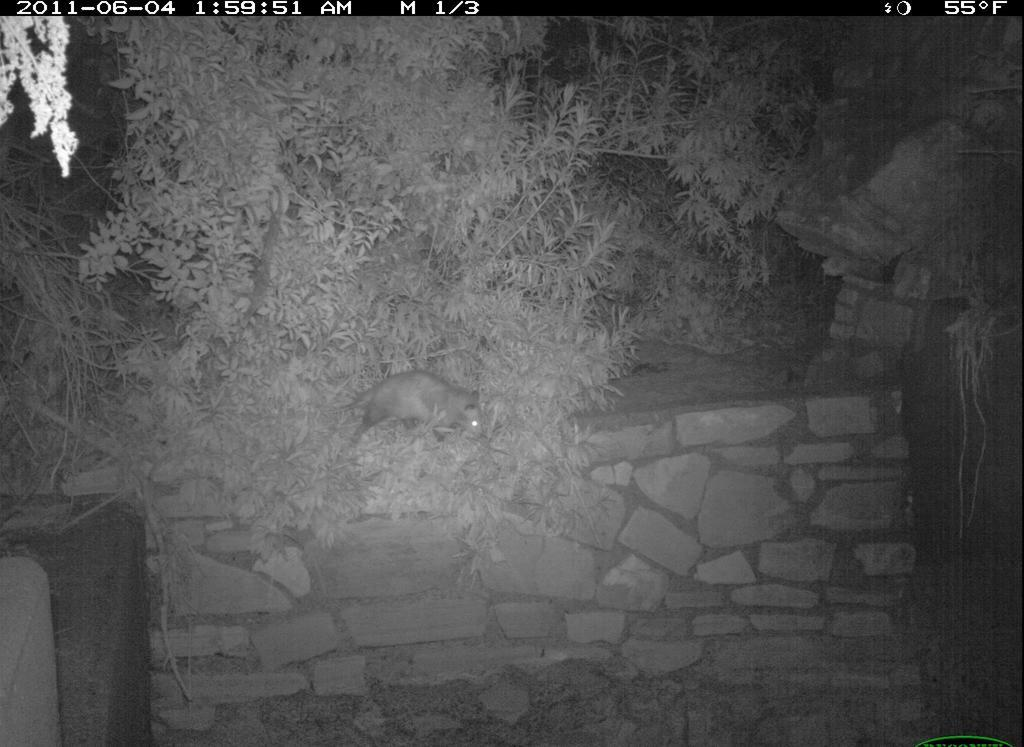opossum: (332, 374, 491, 455)
